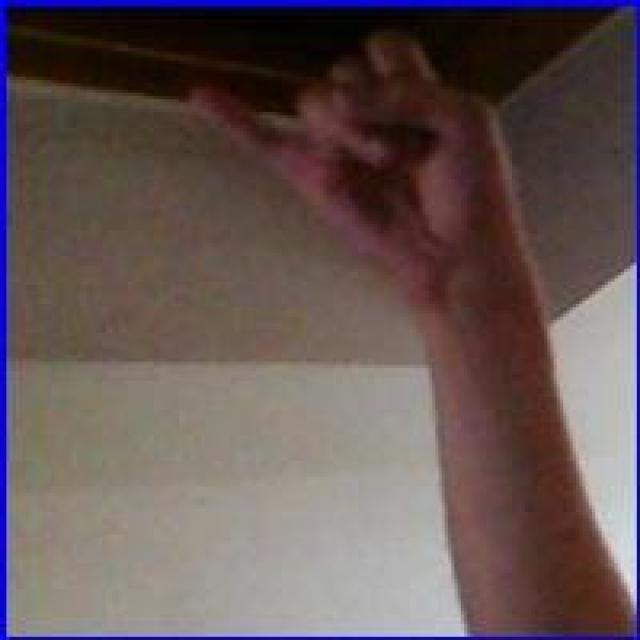J: (179, 21, 538, 296)
